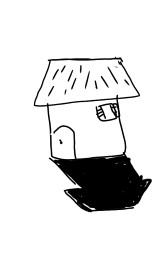door: (46, 122, 84, 162)
open_window: (93, 100, 122, 125)
roof: (30, 52, 142, 107)
shadow: (47, 150, 157, 217)
wall: (43, 94, 130, 164)
